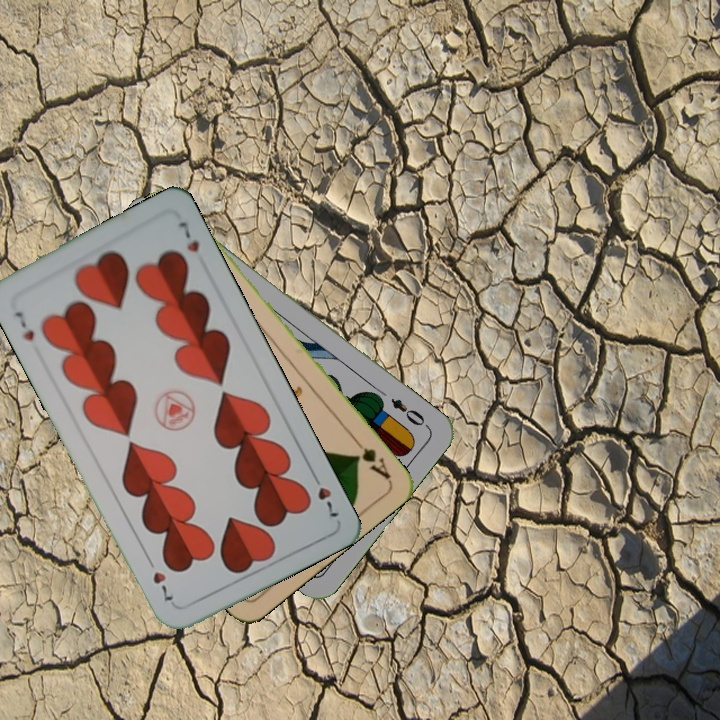EO: (386, 394, 432, 430)
GA: (349, 433, 394, 482)
H7: (307, 468, 342, 522), (11, 307, 37, 344)
